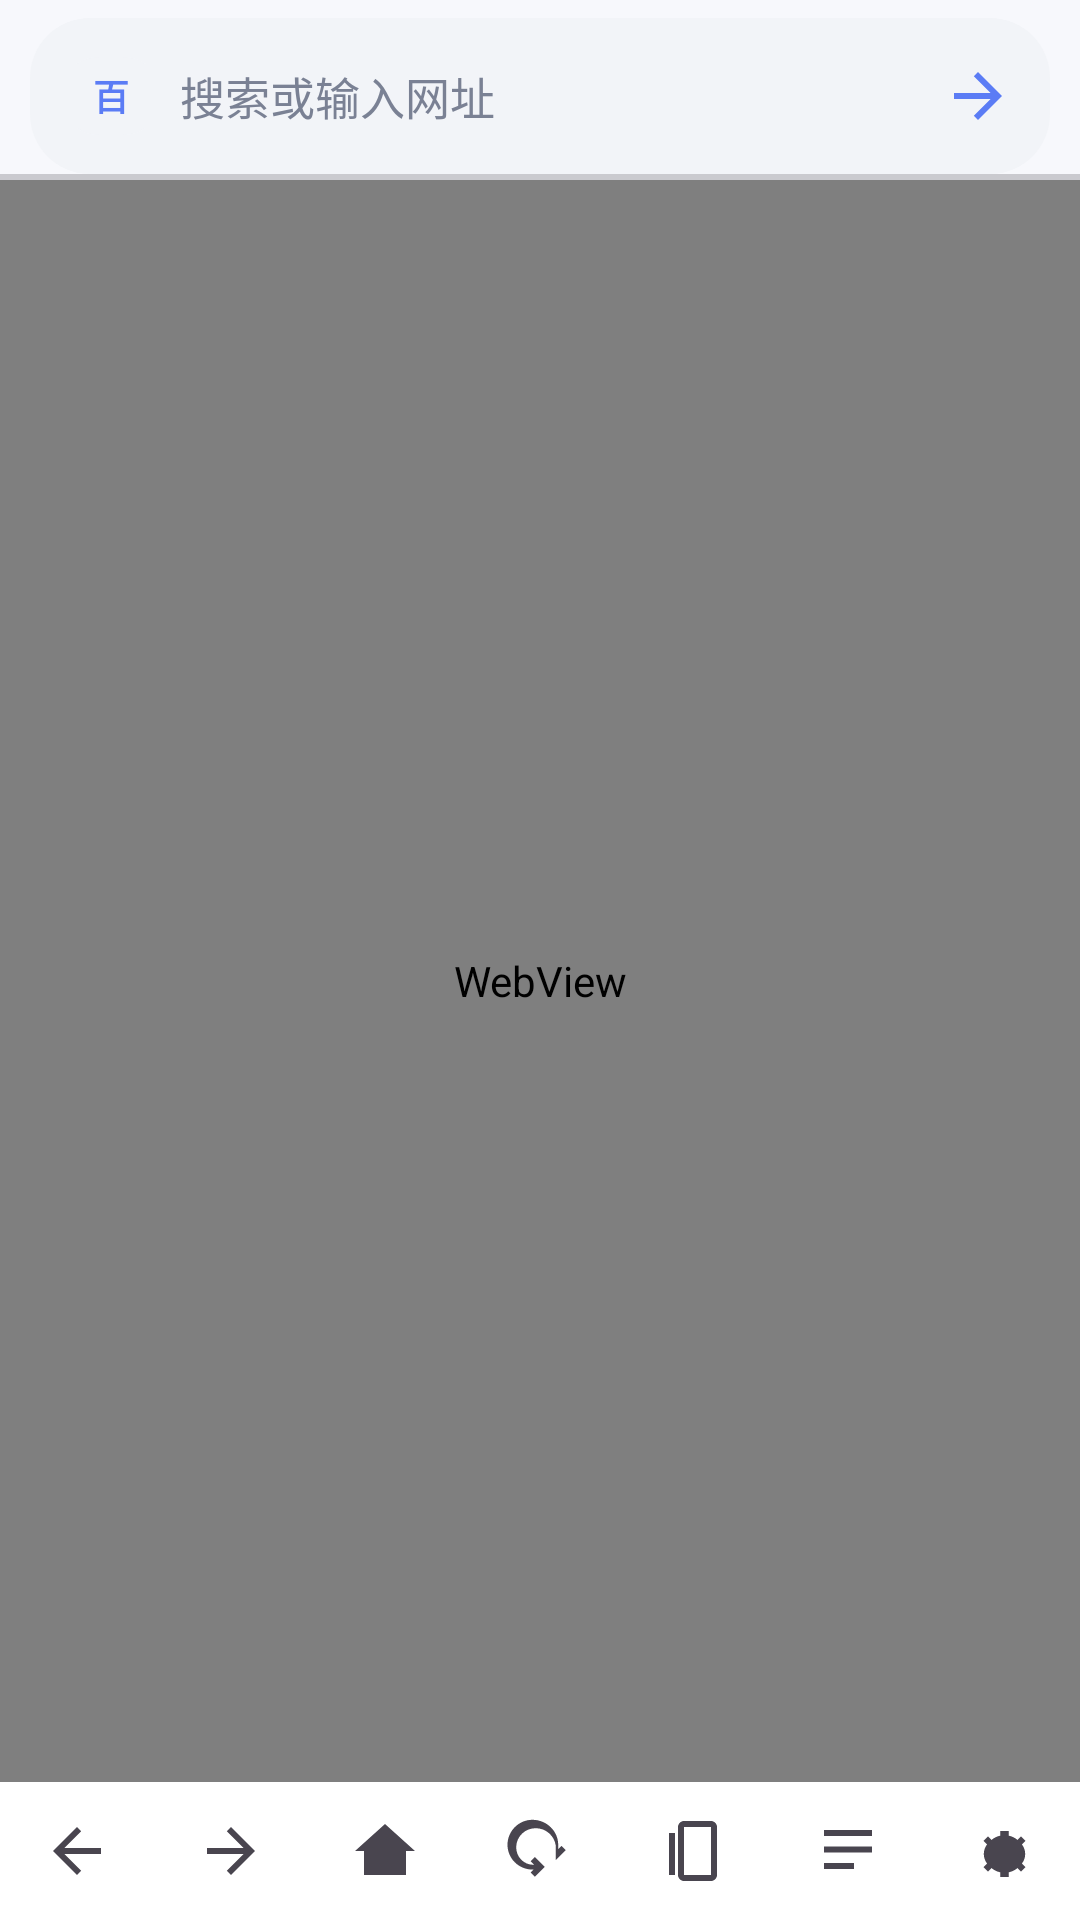

Icons on this 1080×1920 Android screen, each with its box as (x1, y1, x2, y2):
刷新: (507, 1819, 566, 1877)
前往: (954, 72, 1002, 120)
前进: (207, 1827, 255, 1875)
后退: (53, 1827, 101, 1875)
设置: (983, 1831, 1026, 1877)
首页: (355, 1824, 415, 1875)
